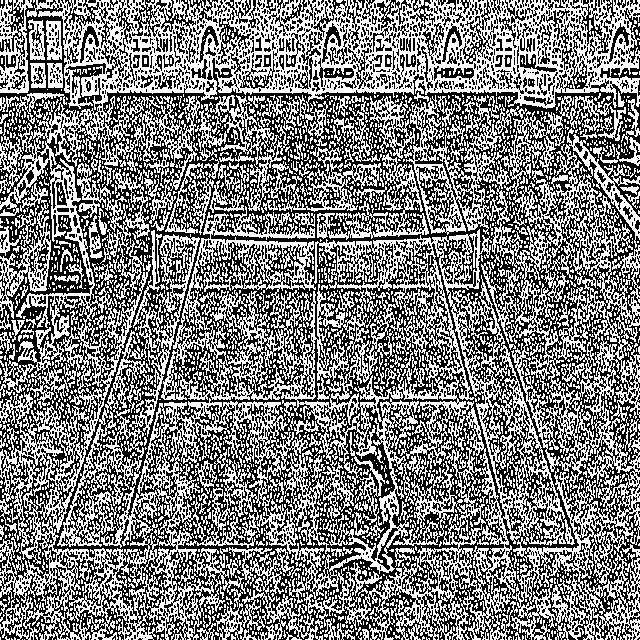left side: (55, 161, 220, 547), (412, 161, 576, 545)
player: (346, 386, 400, 569), (222, 89, 246, 148)
